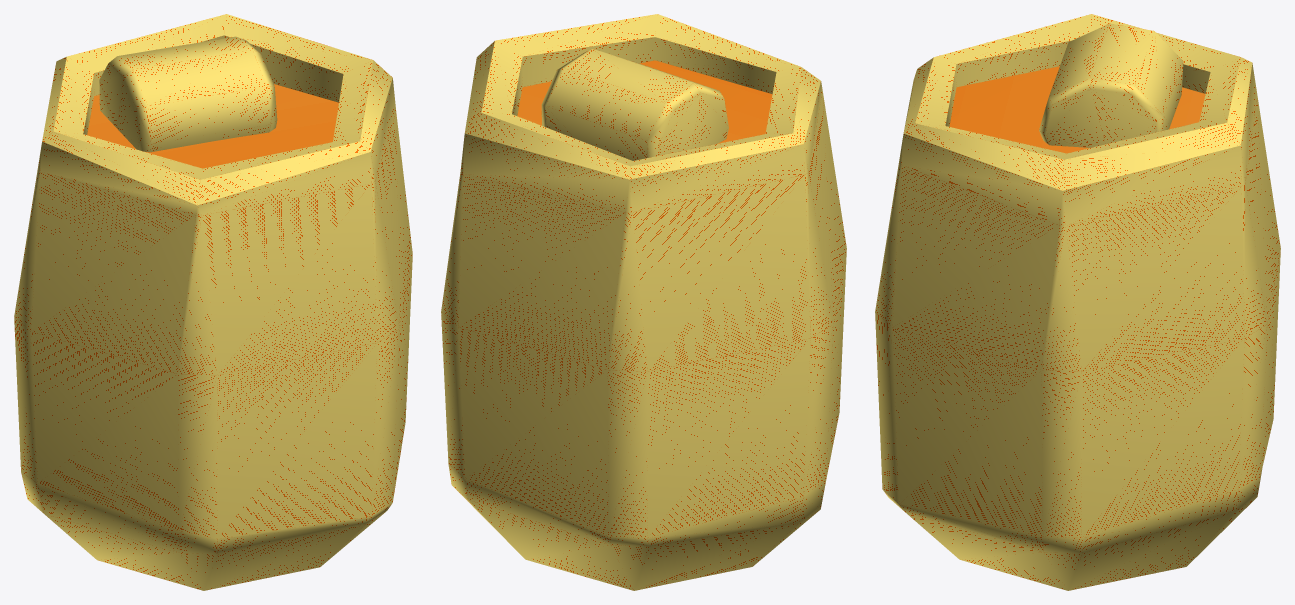
Rendered from Prop_CocoaCup.glb.
The picture shows the model from 3 angles, left to right: view 1: azimuth 30°, elevation 25°; view 2: azimuth 150°, elevation 25°; view 3: azimuth 270°, elevation 25°; orthographic projection.
Parts seen in each view (by area): view 1: Prop_CocoaCup; view 2: Prop_CocoaCup; view 3: Prop_CocoaCup.
Part boxes in pixels (x1,y1,x2,y2): Prop_CocoaCup: (14,14,412,590); Prop_CocoaCup: (441,14,846,590); Prop_CocoaCup: (875,14,1280,590).
Bounding box in the file's own units: 0.143 × 0.1751 × 0.1341.
Materials: 1 (1 with a texture image).
